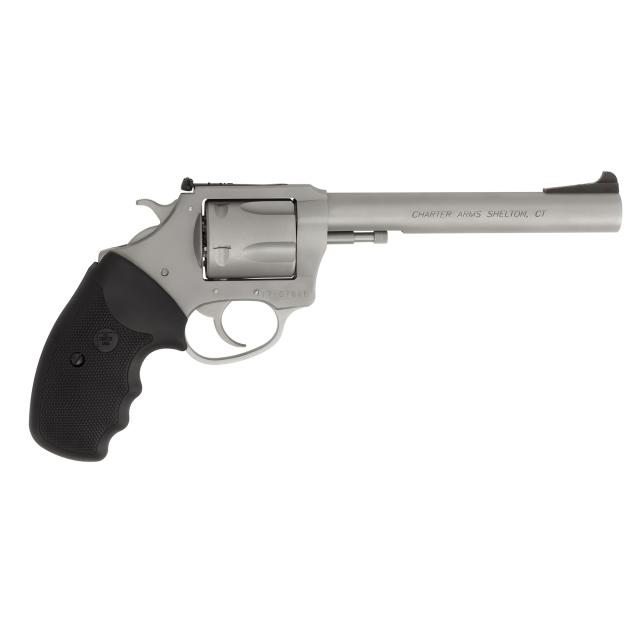Gun: (26, 143, 628, 482)
